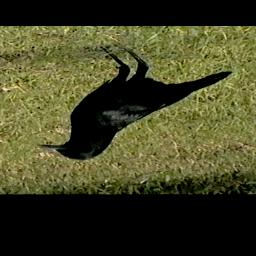Crow: (37, 44, 234, 160)
